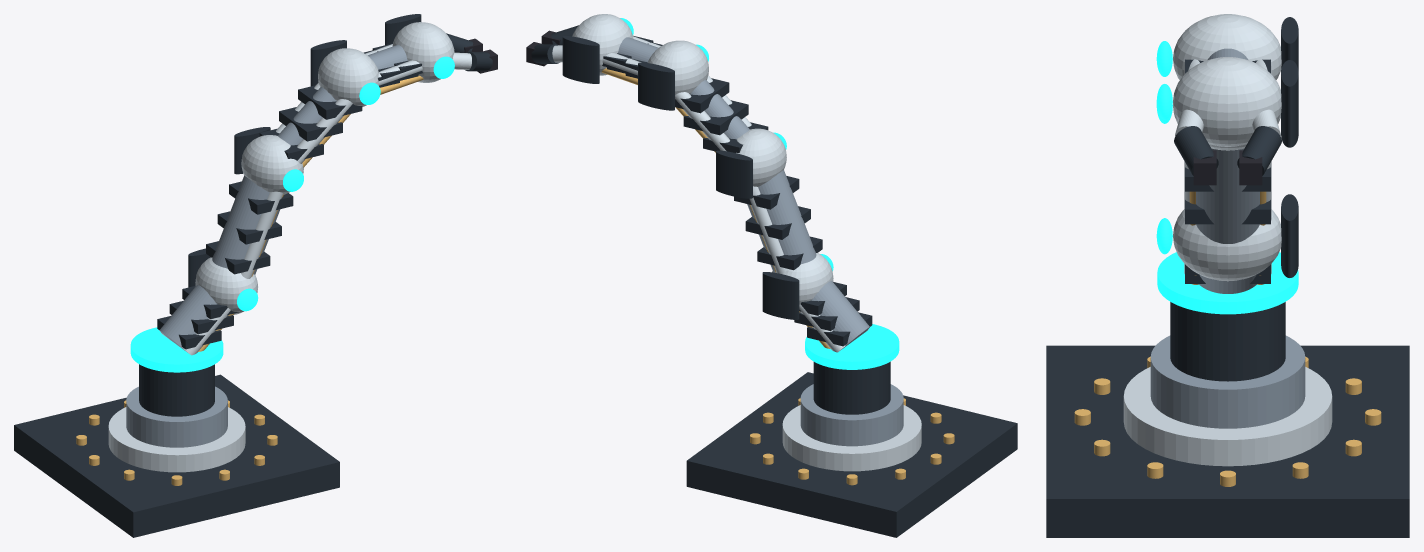
The model's file is Titanium-Industrial-Robot-Arm.glb.
3 views of the same model, side by side, from view 1: azimuth 30°, elevation 25°; view 2: azimuth 150°, elevation 25°; view 3: azimuth 270°, elevation 25° (orthographic). The views are drawn at different scales.
Visible parts, largest first — view 1: 01 Foundation / industrial pedestal, 02 Machined turntable, 03 Rotating bearing housing, 04 Main vertical motor, 05 Cyan bearing ring, Joint 02 bearing, Joint 01 bearing, Arm 01 central forged link, Joint 03 bearing, Joint 00 bearing, Arm 00 central forged link, Arm 02 central forged link (+10 smaller); view 2: 01 Foundation / industrial pedestal, 02 Machined turntable, 03 Rotating bearing housing, 04 Main vertical motor, 05 Cyan bearing ring, Arm 01 central forged link, Joint 02 bearing, Joint 01 bearing, Joint 03 bearing, Joint 00 servo cap, Joint 03 servo cap, Joint 01 servo cap (+12 smaller); view 3: 01 Foundation / industrial pedestal, 02 Machined turntable, 03 Rotating bearing housing, 04 Main vertical motor, Joint 03 bearing, Joint 00 bearing, 05 Cyan bearing ring, Joint 02 bearing, Arm 01 central forged link, Joint 03 servo cap, Joint 00 servo cap, Gripper articulated jaw -1 (+10 smaller).
Boxes of the visible parts, bbox=[...] form: 01 Foundation / industrial pedestal: bbox=[14, 374, 339, 537]; 02 Machined turntable: bbox=[108, 407, 245, 472]; 03 Rotating bearing housing: bbox=[126, 386, 227, 447]; 04 Main vertical motor: bbox=[139, 364, 214, 416]; 05 Cyan bearing ring: bbox=[130, 327, 223, 372]; Joint 02 bearing: bbox=[318, 48, 378, 106]; Joint 01 bearing: bbox=[241, 135, 303, 194]; Arm 01 central forged link: bbox=[212, 175, 280, 274]; Joint 03 bearing: bbox=[392, 22, 454, 82]; Joint 00 bearing: bbox=[195, 257, 257, 314]; Arm 00 central forged link: bbox=[159, 285, 217, 351]; Arm 02 central forged link: bbox=[278, 87, 336, 145]; 01 Foundation / industrial pedestal: bbox=[686, 372, 1017, 537]; 02 Machined turntable: bbox=[782, 405, 921, 471]; 03 Rotating bearing housing: bbox=[800, 384, 903, 446]; 04 Main vertical motor: bbox=[813, 361, 890, 414]; 05 Cyan bearing ring: bbox=[805, 324, 899, 369]; Arm 01 central forged link: bbox=[747, 170, 816, 270]; Joint 02 bearing: bbox=[648, 40, 708, 94]; Joint 01 bearing: bbox=[736, 128, 786, 186]; Joint 03 bearing: bbox=[572, 14, 633, 75]; Joint 00 servo cap: bbox=[762, 272, 799, 319]; Joint 03 servo cap: bbox=[562, 36, 599, 83]; Joint 01 servo cap: bbox=[716, 150, 752, 198]; 01 Foundation / industrial pedestal: bbox=[1046, 345, 1409, 537]; 02 Machined turntable: bbox=[1123, 367, 1332, 466]; 03 Rotating bearing housing: bbox=[1150, 335, 1305, 428]; 04 Main vertical motor: bbox=[1170, 302, 1285, 381]; Joint 03 bearing: bbox=[1173, 57, 1281, 146]; Joint 00 bearing: bbox=[1173, 209, 1281, 281]; 05 Cyan bearing ring: bbox=[1157, 252, 1298, 314]; Joint 02 bearing: bbox=[1173, 14, 1281, 79]; Arm 01 central forged link: bbox=[1196, 148, 1259, 243]; Joint 03 servo cap: bbox=[1281, 60, 1298, 143]; Joint 00 servo cap: bbox=[1281, 194, 1298, 277]; Gripper articulated jaw -1: bbox=[1174, 126, 1218, 175].
Bounding box in the file's own units: 5.4 × 4.78 × 2.7.
